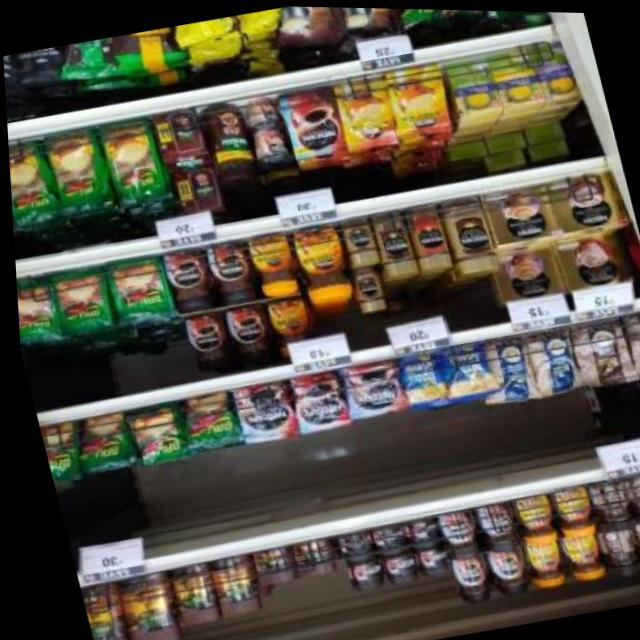Coffee: (333, 74, 401, 148), (386, 62, 453, 134), (288, 222, 349, 300), (440, 193, 498, 275), (280, 85, 342, 156), (226, 378, 293, 441), (285, 369, 346, 430), (338, 358, 400, 416), (219, 301, 274, 364), (200, 240, 253, 303), (246, 231, 297, 295), (176, 310, 227, 372), (368, 209, 414, 276), (160, 248, 210, 309), (263, 294, 313, 354), (545, 483, 593, 537), (431, 507, 478, 561), (471, 498, 516, 553), (480, 544, 525, 597), (507, 490, 552, 543), (554, 531, 600, 581), (444, 552, 488, 603), (517, 537, 561, 587), (338, 217, 376, 265), (348, 266, 383, 312), (331, 527, 370, 562), (342, 558, 379, 592), (376, 551, 413, 584), (400, 514, 437, 546), (410, 543, 444, 576), (365, 523, 401, 554)
